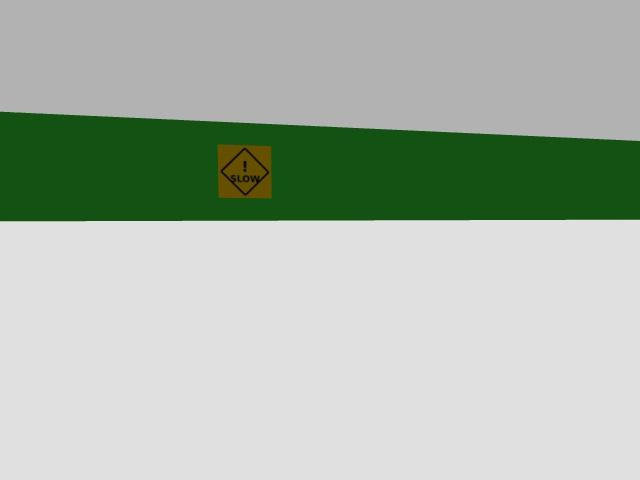slow: (219, 145, 271, 197)
